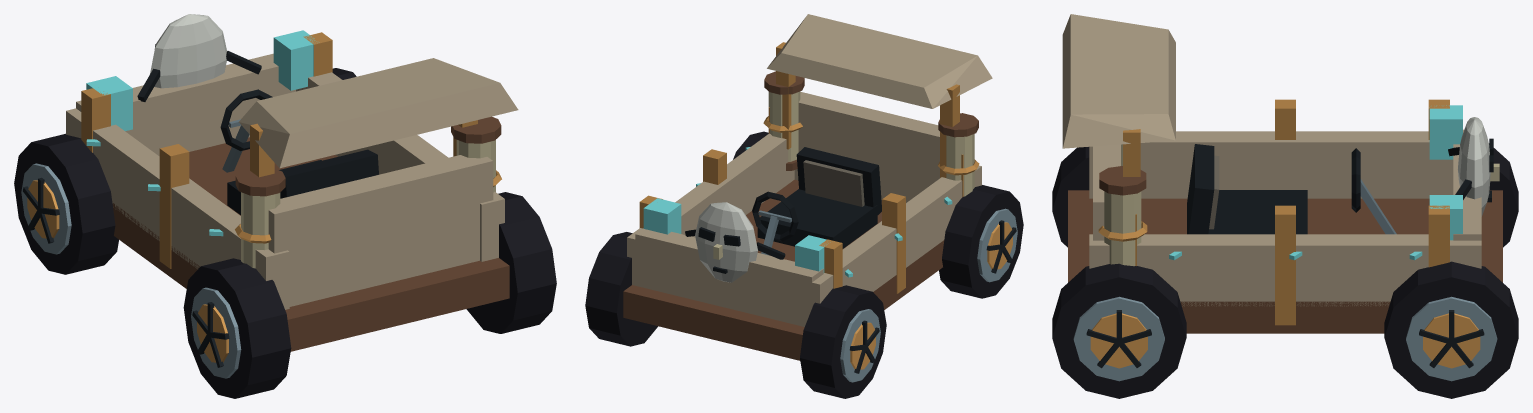
The model's file is kart.glb.
3 views of the same model, side by side, from view 1: azimuth 30°, elevation 25°; view 2: azimuth 150°, elevation 25°; view 3: azimuth 270°, elevation 25° (orthographic). The views are drawn at different scales.
Parts seen in each view (by area): view 1: identity-carriage-carriage-timber-coach, wheel-rear-left, wheel-front-left, wheel-rear-right, identity-carriage-motif-mask, identity-carriage-motif-scrolls, identity-carriage-driver-cockpit; view 2: identity-carriage-carriage-timber-coach, identity-carriage-driver-cockpit, wheel-front-left, wheel-rear-left, wheel-front-right, identity-carriage-motif-mask, identity-carriage-motif-scrolls; view 3: identity-carriage-carriage-timber-coach, wheel-front-right, wheel-rear-right, identity-carriage-driver-cockpit, identity-carriage-motif-scrolls, identity-carriage-motif-mask, wheel-rear-left, wheel-front-left.
Boxes of the visible parts, <box> form: identity-carriage-carriage-timber-coach: <box>66,30,518,351</box>; wheel-rear-left: <box>183,258,291,398</box>; wheel-front-left: <box>14,133,118,274</box>; wheel-rear-right: <box>466,192,556,333</box>; identity-carriage-motif-mask: <box>137,14,261,101</box>; identity-carriage-motif-scrolls: <box>235,116,501,268</box>; identity-carriage-driver-cockpit: <box>220,89,378,214</box>; identity-carriage-carriage-timber-coach: <box>623,14,992,360</box>; identity-carriage-driver-cockpit: <box>752,147,881,255</box>; wheel-front-left: <box>800,285,886,398</box>; wheel-rear-left: <box>939,185,1023,298</box>; wheel-front-right: <box>585,232,657,346</box>; identity-carriage-motif-mask: <box>685,202,785,282</box>; identity-carriage-motif-scrolls: <box>763,71,979,196</box>; identity-carriage-carriage-timber-coach: <box>1062,14,1502,333</box>; wheel-front-right: <box>1384,261,1518,398</box>; wheel-rear-right: <box>1052,263,1186,398</box>; identity-carriage-driver-cockpit: <box>1187,144,1396,234</box>; identity-carriage-motif-scrolls: <box>1098,144,1147,266</box>; identity-carriage-motif-mask: <box>1448,117,1499,216</box>; wheel-rear-left: <box>1052,147,1089,247</box>; wheel-front-left: <box>1489,143,1518,247</box>.
Bounding box in the file's own units: 2.07 × 1.63 × 2.64.
